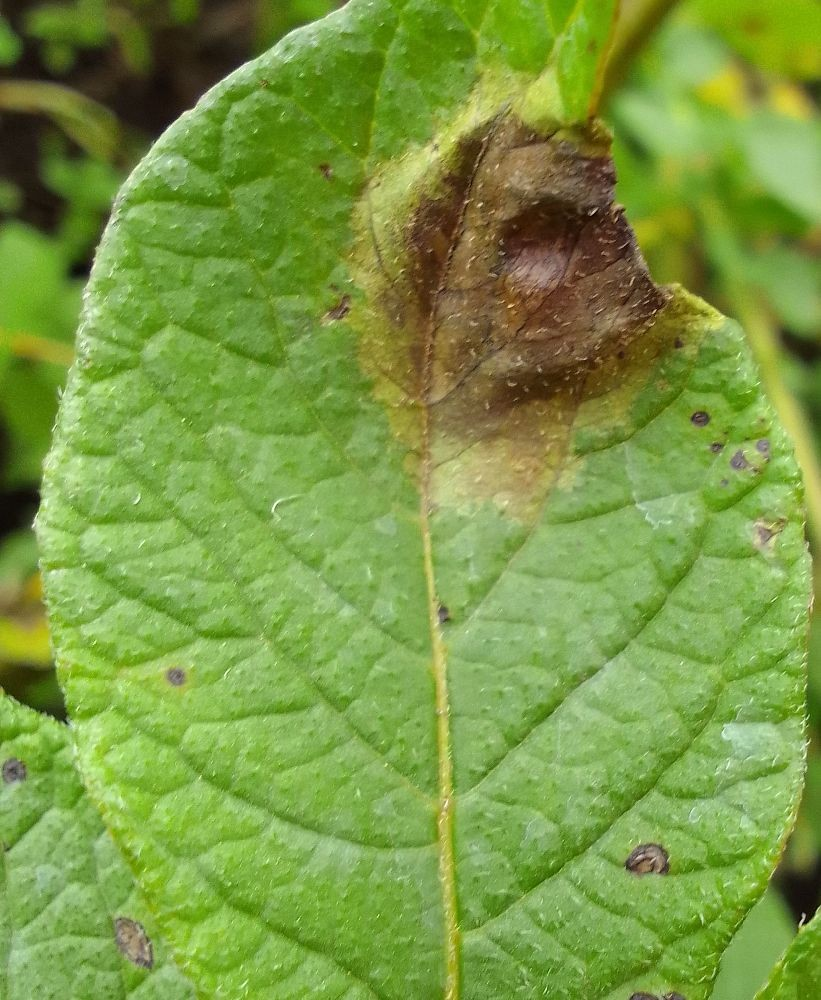late_blight: (309, 0, 728, 541), (0, 0, 322, 270), (766, 312, 821, 395)
